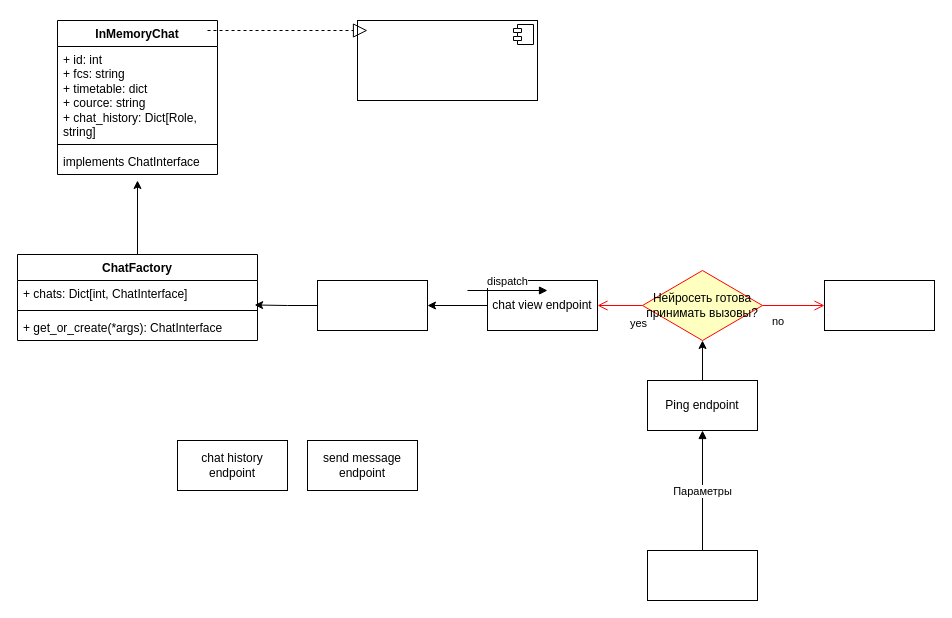
The diagram is 952 pixels wide and 618 high, and some of its shapes have lost their labels. Each missing label, with the centre of its shape:
"ChatInterface sendMessage(message) recieveMessage(message) deleteChat()" goes at pixel 447 60.
"Client" goes at pixel 702 575.
"error view" goes at pixel 879 305.
"get chat history" goes at pixel 372 305.
